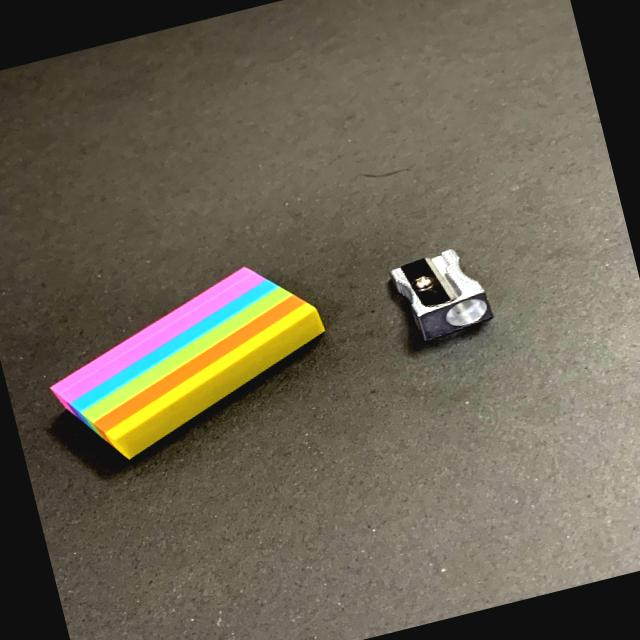Eraser: (9, 232, 362, 498)
Sharpner: (361, 219, 520, 358)
